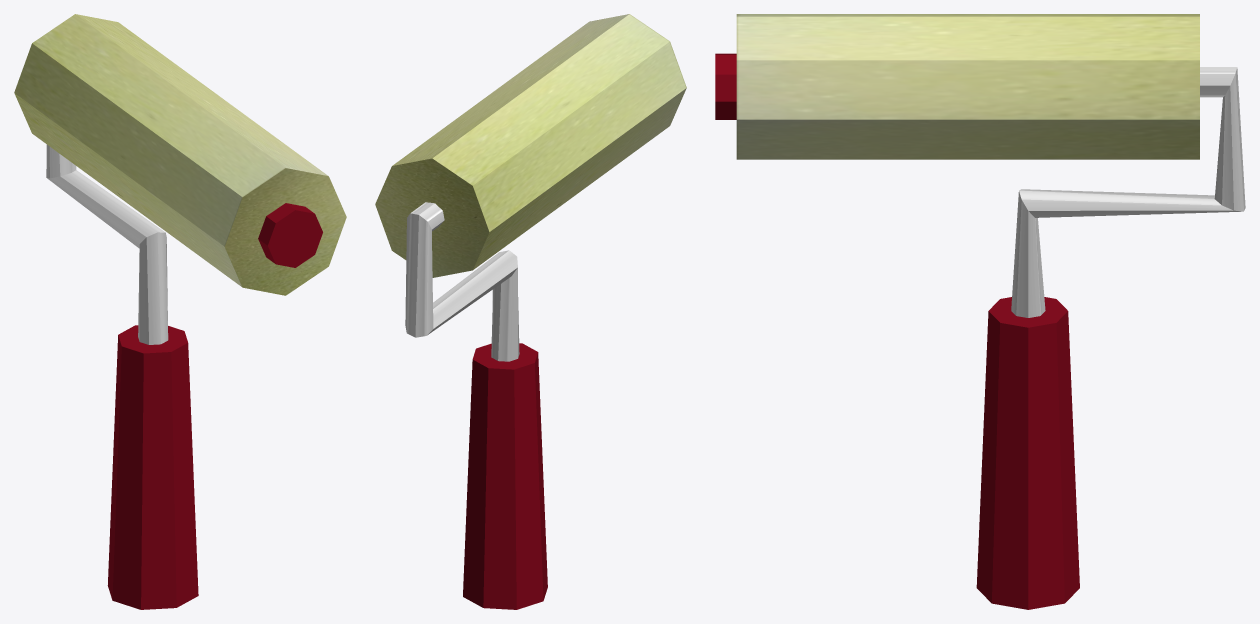
Rendered from rodillo.fbx.
The picture shows the model from 3 angles, left to right: view 1: azimuth 30°, elevation 25°; view 2: azimuth 150°, elevation 25°; view 3: azimuth 270°, elevation 25°; orthographic projection. The views are drawn at different scales.
Visible parts, largest first — view 1: Cylinder.001, Cylinder, Cylinder.002; view 2: Cylinder.001, Cylinder; view 3: Cylinder.001, Cylinder, Cylinder.002.
Part boxes in pixels (box(x1,y1,x2,y2)): Cylinder.001: box(14, 14, 346, 295); Cylinder: box(46, 144, 198, 609); Cylinder.002: box(258, 203, 322, 267); Cylinder.001: box(375, 14, 686, 277); Cylinder: box(405, 202, 547, 609); Cylinder.001: box(736, 14, 1199, 159); Cylinder: box(976, 67, 1245, 609); Cylinder.002: box(715, 53, 736, 119).
Bounding box in the file's own units: 300 × 1220 × 1026.
